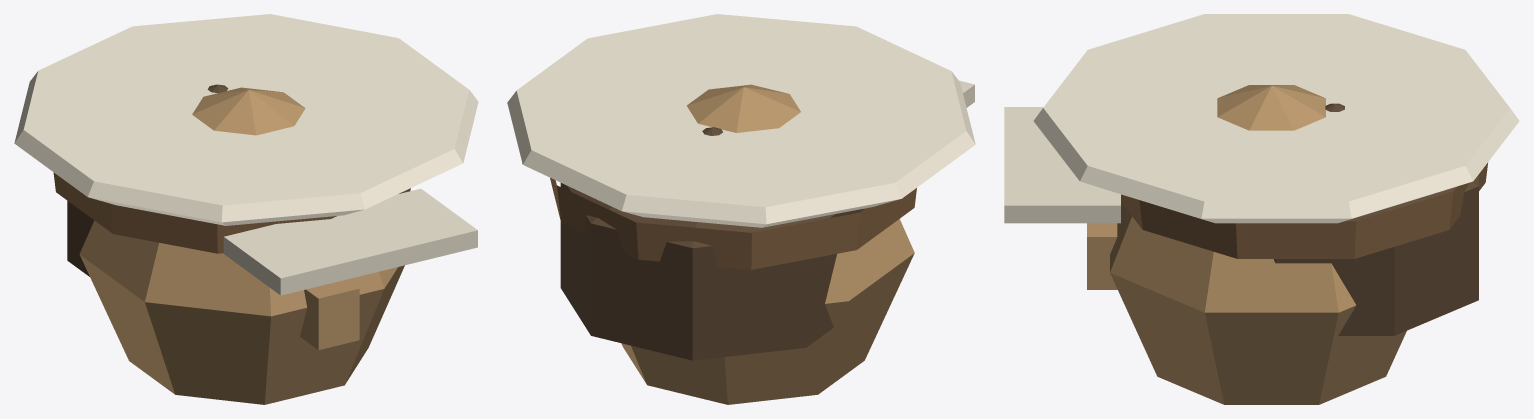
The model's file is villager-head-cap.glb.
3 views of the same model, side by side, from view 1: azimuth 30°, elevation 25°; view 2: azimuth 150°, elevation 25°; view 3: azimuth 270°, elevation 25° (orthographic). The views are drawn at different scales.
Parts seen in each view (by area): view 1: head; view 2: head; view 3: head.
Part boxes in pixels (x1,y1,x2,y2): head: (14,14,478,404); head: (507,14,975,404); head: (1004,14,1519,404).
Size of the model in its own units: 0.9511 by 0.72 by 1.06.
1 material, 1 textured.
